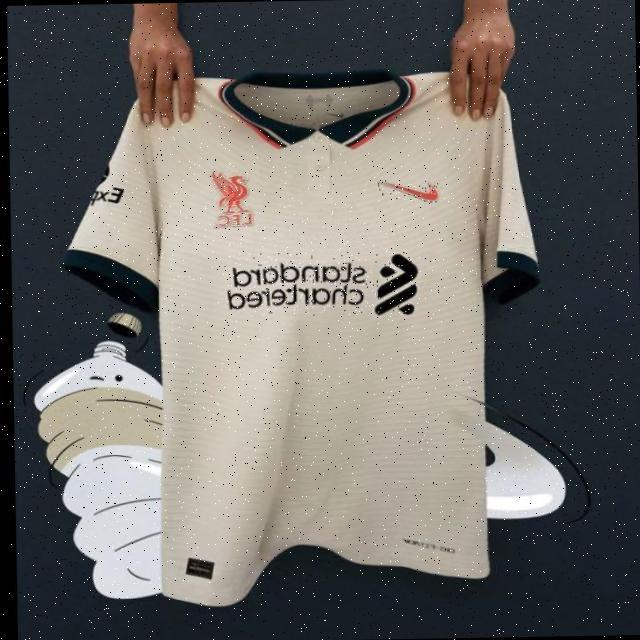Nike: (378, 179, 439, 203)
Standard Chartered: (223, 251, 418, 318)
